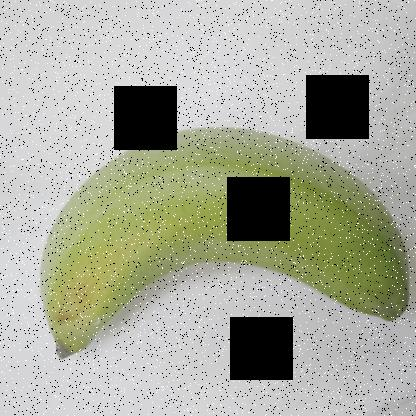freshunripe: (26, 111, 416, 375)
